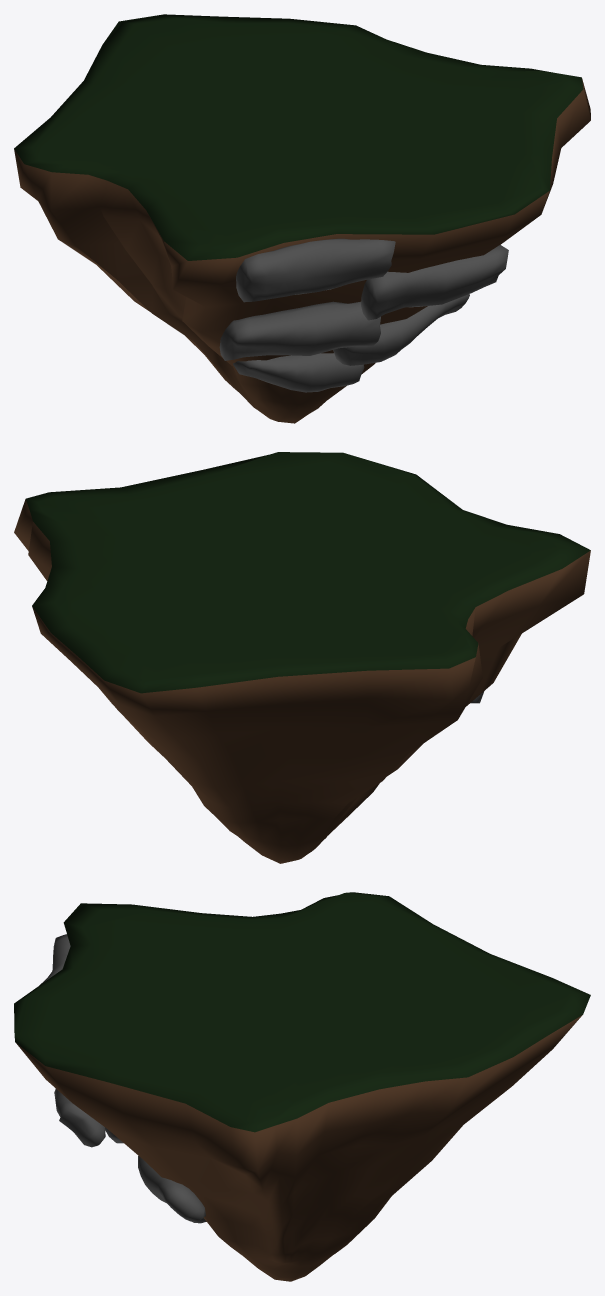
The model's file is IlhaMedia.fbx.
3 renders of one model, top to bottom at view 1: azimuth 30°, elevation 25°; view 2: azimuth 150°, elevation 25°; view 3: azimuth 270°, elevation 25°, orthographic. The views are drawn at different scales.
Parts seen in each view (by area): view 1: IlhaMedia, EscadaIlhaMedia; view 2: IlhaMedia; view 3: IlhaMedia, EscadaIlhaMedia.
Boxes of the visible parts, <box> form: IlhaMedia: <box>14,14,590,423</box>; EscadaIlhaMedia: <box>219,238,508,392</box>; IlhaMedia: <box>14,452,590,863</box>; IlhaMedia: <box>14,892,590,1281</box>; EscadaIlhaMedia: <box>39,934,206,1223</box>.
Bounding box in the file's own units: 8002 × 4323 × 7962.
